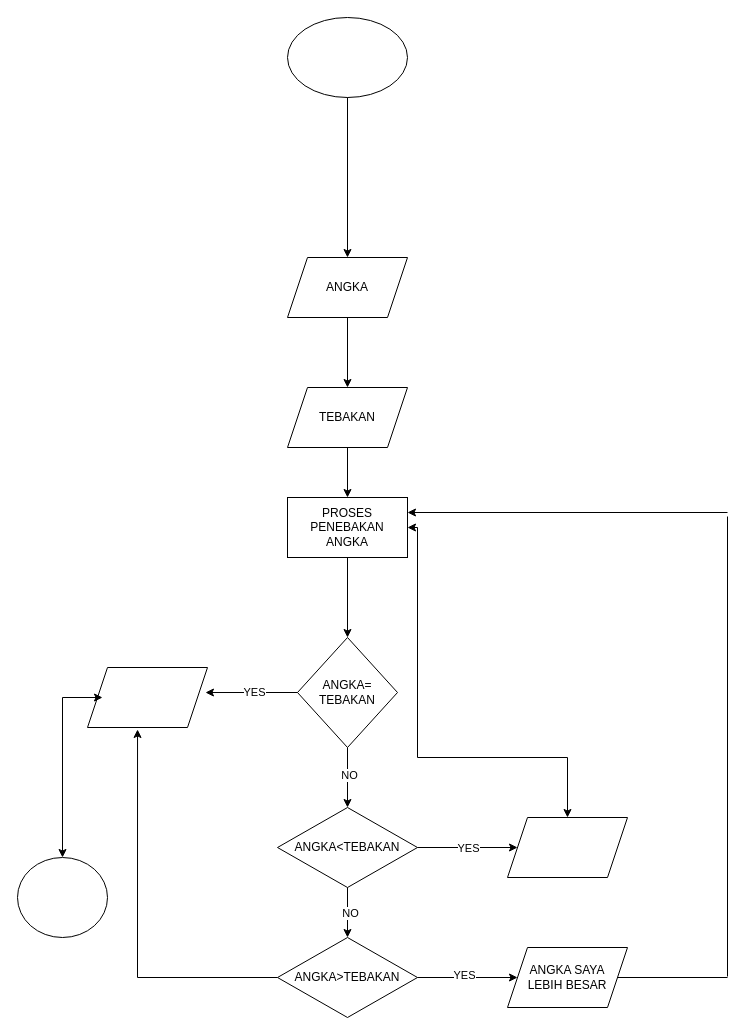
Image size: 753x1035. Some labels were removed from this diagram. The shapes that lost their labels are listed below. From the top down, each one's centre as x and y in pixels, then its label:
point 347,57: START
point 147,697: BENAR
point 567,847: ANGKA SAYA LEBIH KECIL
point 62,897: END
